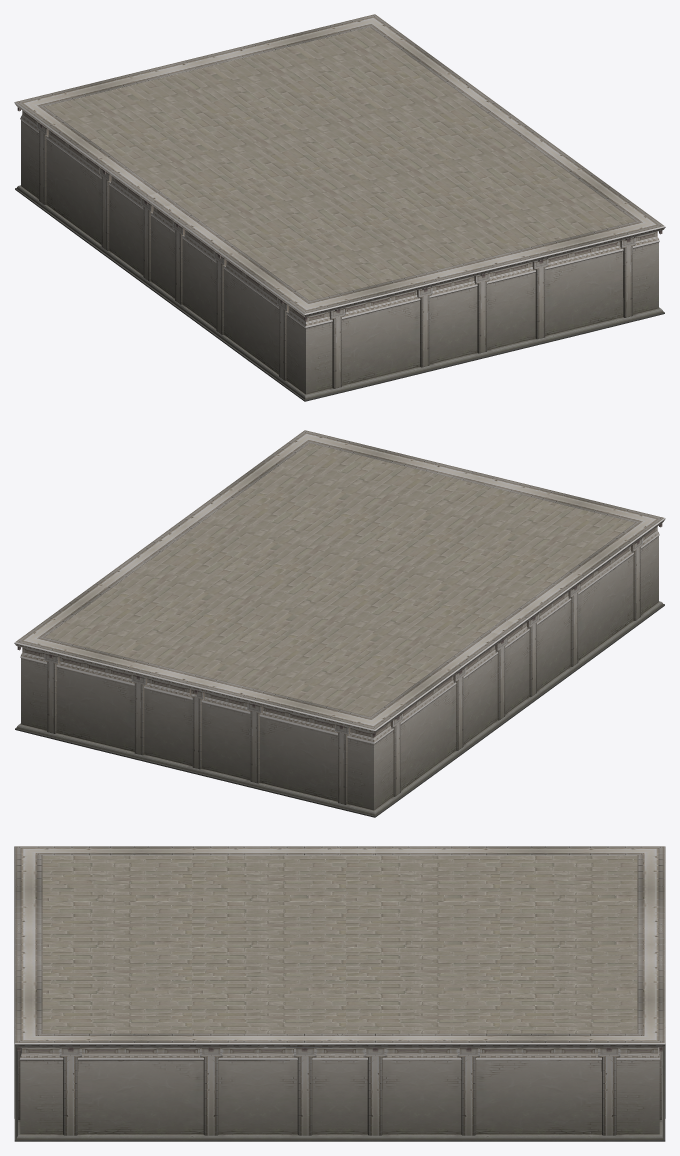
File: mod_zlc_jianzhu069_xy03.FBX
3 renders of one model, top to bottom at view 1: azimuth 30°, elevation 25°; view 2: azimuth 150°, elevation 25°; view 3: azimuth 270°, elevation 25°, orthographic. The views are drawn at different scales.
Visible parts, largest first — view 1: mod_zlc_jianzhu069_xy03; view 2: mod_zlc_jianzhu069_xy03; view 3: mod_zlc_jianzhu069_xy03.
Part boxes in pixels (bbox=[...]): mod_zlc_jianzhu069_xy03: bbox=[14, 14, 665, 401]; mod_zlc_jianzhu069_xy03: bbox=[14, 430, 665, 817]; mod_zlc_jianzhu069_xy03: bbox=[14, 846, 665, 1141].
Bounding box in the file's own units: 33.48 × 7.77 × 46.66.
2 materials, 2 textured.
